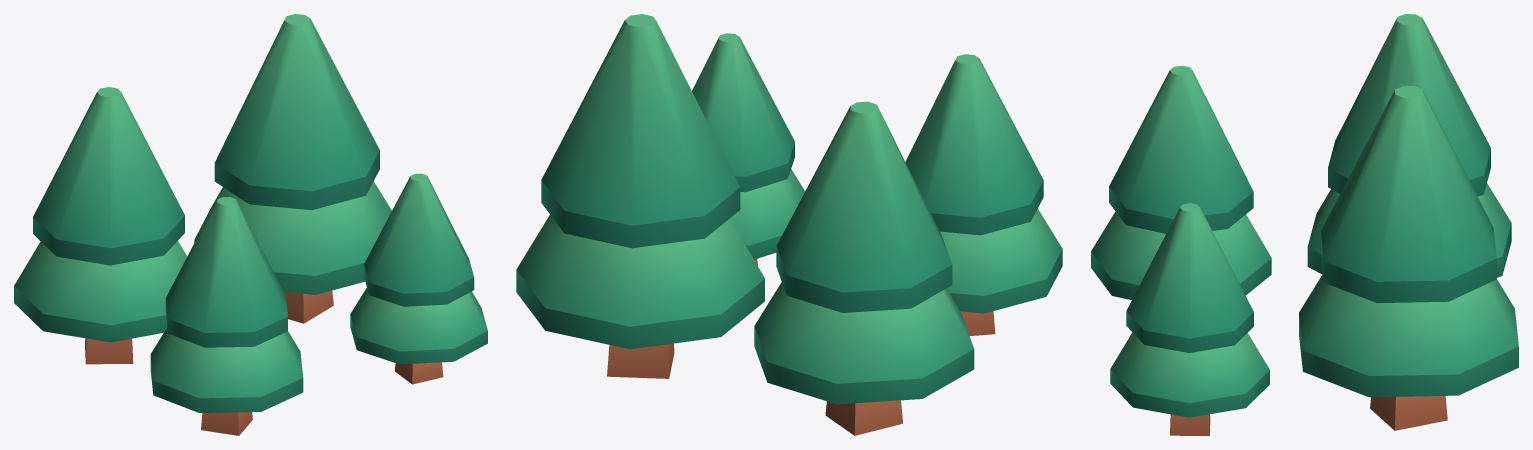
Rendered from grass-trees.glb.
The picture shows the model from 3 angles, left to right: view 1: azimuth 30°, elevation 25°; view 2: azimuth 150°, elevation 25°; view 3: azimuth 270°, elevation 25°; orthographic projection. The views are drawn at different scales.
Parts seen in each view (by area): view 1: grass-trees; view 2: grass-trees; view 3: grass-trees.
Part boxes in pixels (x1,y1,x2,y2): grass-trees: [14, 14, 487, 435]; grass-trees: [516, 14, 1062, 435]; grass-trees: [1091, 14, 1518, 435].
Bounding box in the file's own units: 0.7491 × 0.5859 × 0.7047.
1 material, 1 textured.
